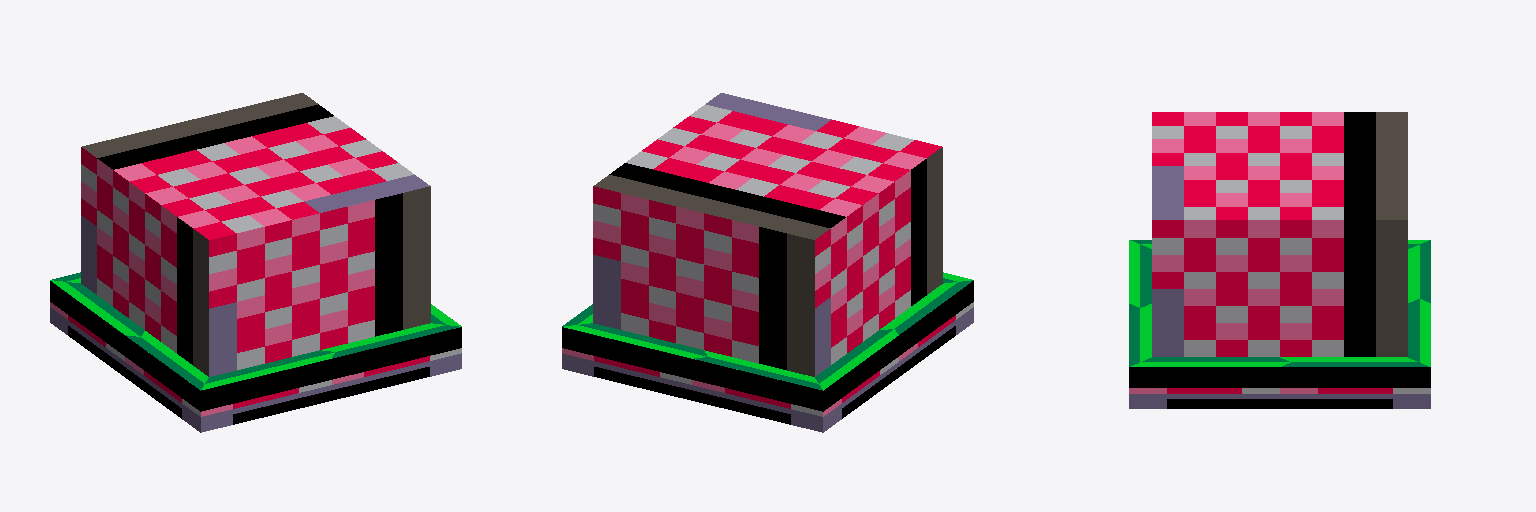
3 views of the same model, side by side, from view 1: azimuth 30°, elevation 25°; view 2: azimuth 150°, elevation 25°; view 3: azimuth 270°, elevation 25° (orthographic).
Visible parts, largest first — view 1: tile_build_sm; view 2: tile_build_sm; view 3: tile_build_sm.
Part boxes in pixels (bbox=[...]): tile_build_sm: bbox=[50, 93, 461, 432]; tile_build_sm: bbox=[562, 93, 973, 432]; tile_build_sm: bbox=[1129, 112, 1430, 408].
Size of the model in its own units: 6.5 by 4.25 by 6.5.
Materials: 1 (1 with a texture image).